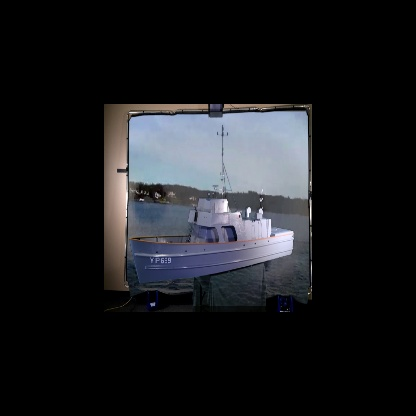YP689: (129, 126, 295, 286)
